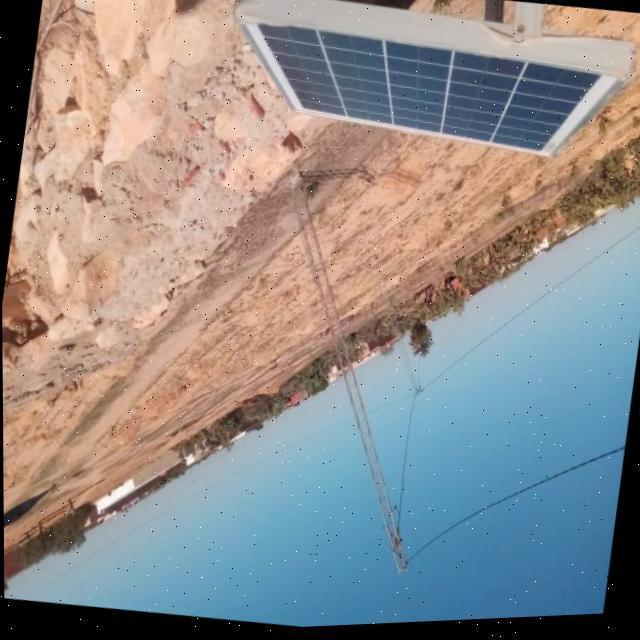Normal Solar Panel: (223, 10, 629, 186)
